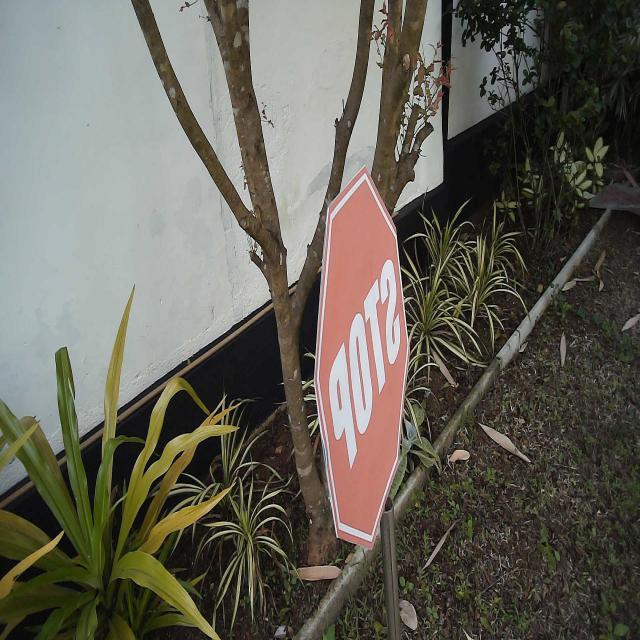stop: (311, 162, 412, 556)
